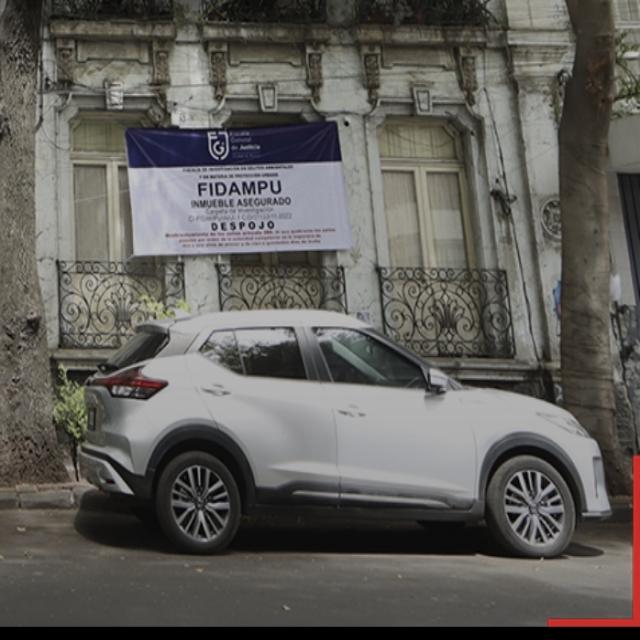stamps: (126, 121, 350, 255)
